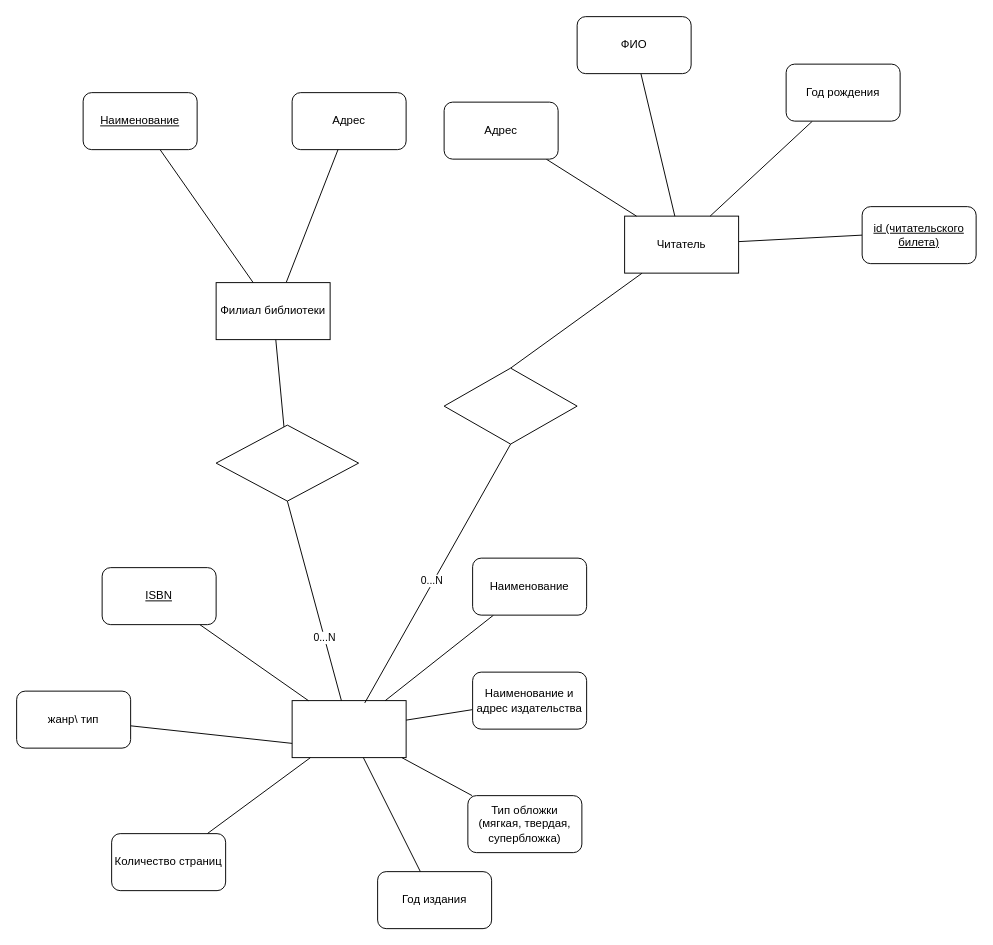
This 993x945 diagram has some shape labels left out. The centre of each missing label's shape, as x and y in pixels:
берет: the point at 510,405
Книга: the point at 348,729
хранит: the point at 287,462
